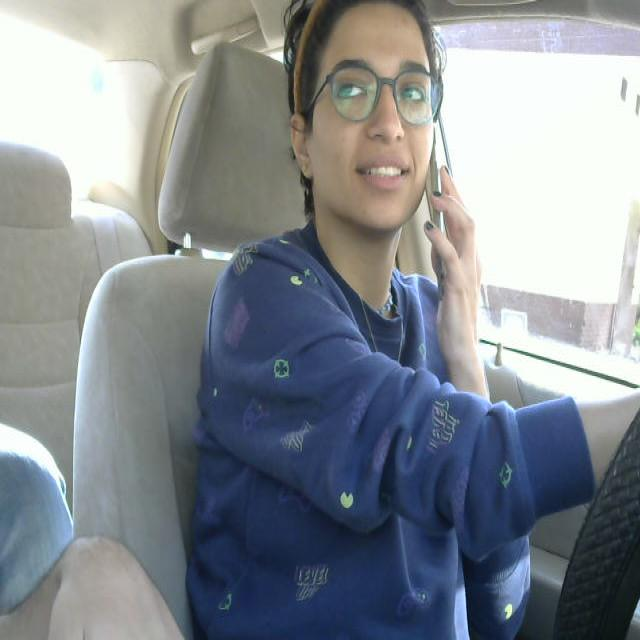mobile use: (406, 132, 460, 290)
